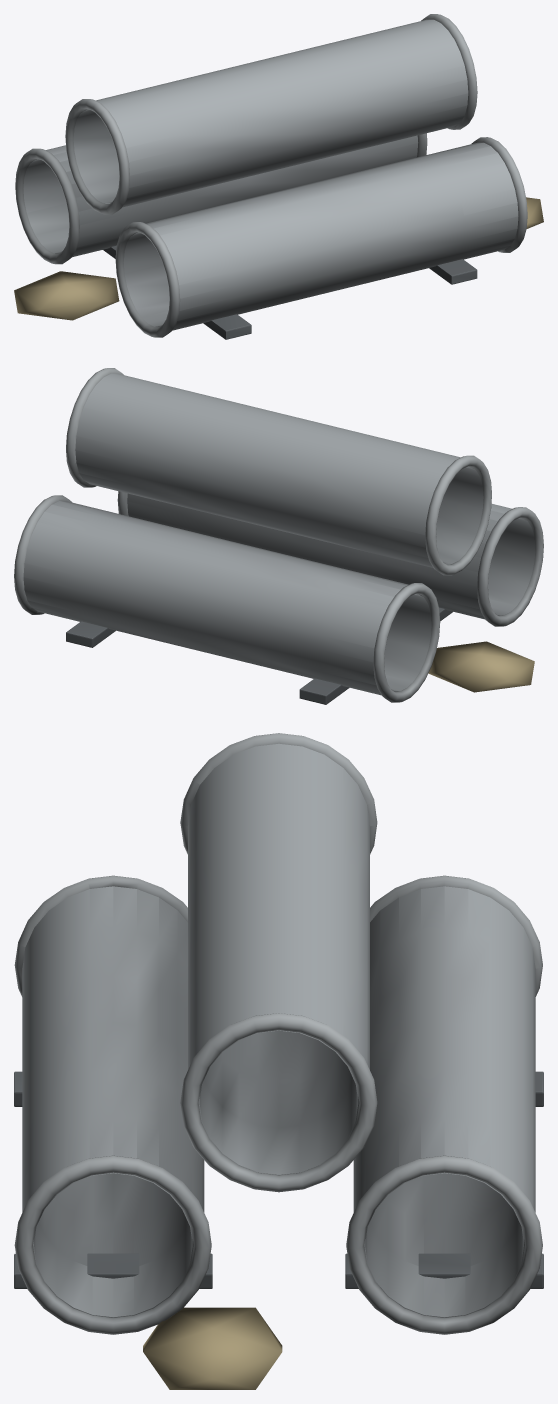
The model's file is pipes.glb.
3 views of the same model, one above another, from view 1: azimuth 30°, elevation 25°; view 2: azimuth 150°, elevation 25°; view 3: azimuth 270°, elevation 25° (orthographic). The views are drawn at different scales.
Parts seen in each view (by area): view 1: pipes; view 2: pipes; view 3: pipes.
Part boxes in pixels (box(x1,y1,x2,y2)): pipes: box(14, 14, 543, 339); pipes: box(14, 368, 543, 704); pipes: box(14, 733, 543, 1389).
Size of the model in its own units: 11.45 by 4.46 by 6.4.
